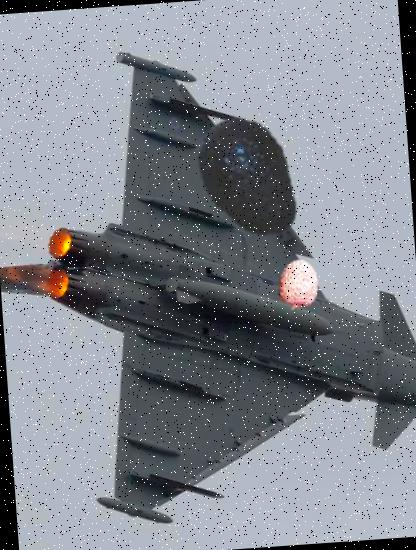Avocado: (179, 110, 317, 248)
Lychee: (271, 256, 327, 312)
